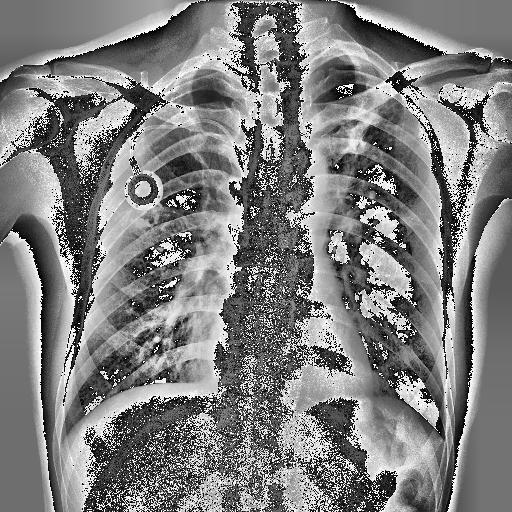11- Pleural thickening: (326, 44, 372, 66), (336, 50, 376, 68), (170, 65, 217, 77), (416, 119, 430, 148)
13- Pulmonary fibrosis: (324, 90, 428, 230), (346, 85, 428, 225), (113, 196, 198, 254), (356, 92, 406, 156), (122, 208, 162, 228), (125, 208, 156, 230), (398, 210, 416, 228), (155, 246, 164, 252)
8- Nodule-Mass: (155, 246, 164, 252)
